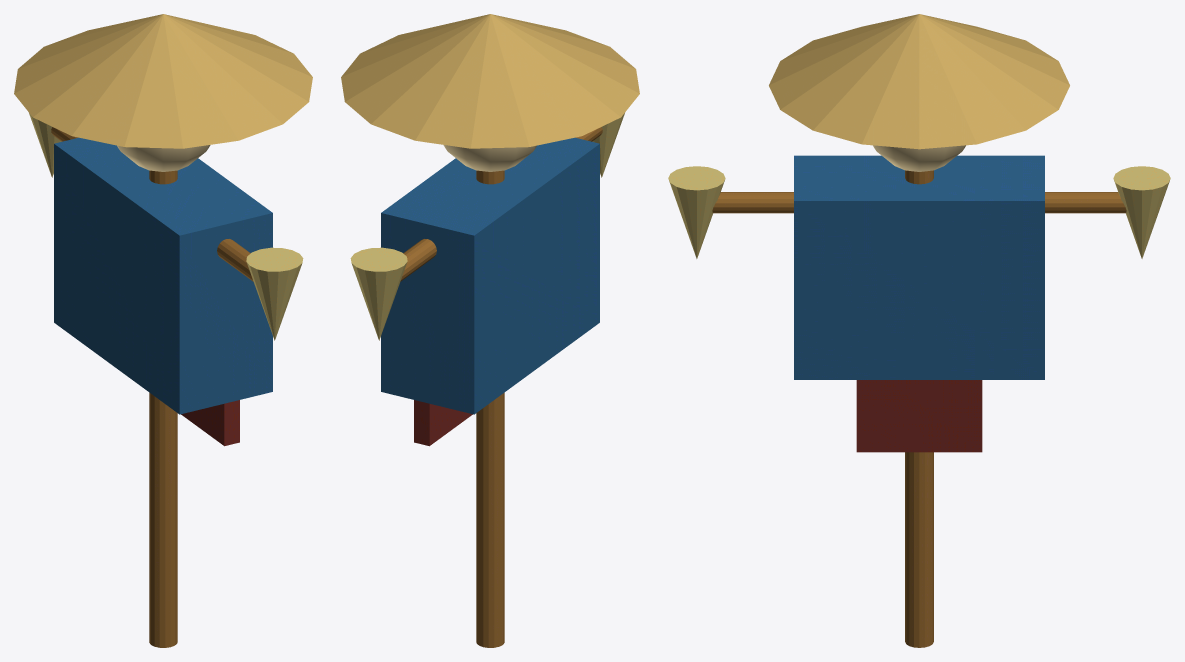
The model's file is scarecrow.glb.
3 views of the same model, side by side, from view 1: azimuth 30°, elevation 25°; view 2: azimuth 150°, elevation 25°; view 3: azimuth 270°, elevation 25° (orthographic).
Parts seen in each view (by area): view 1: Cylinder; view 2: Cylinder; view 3: Cylinder.
Part boxes in pixels (left/top/right/bottom): Cylinder: left=14, top=14, right=312, bottom=647; Cylinder: left=341, top=14, right=639, bottom=647; Cylinder: left=668, top=14, right=1170, bottom=647.
Bounding box in the file's own units: 0.4352 × 1 × 0.7254.
Materials: 1 (1 with a texture image).
